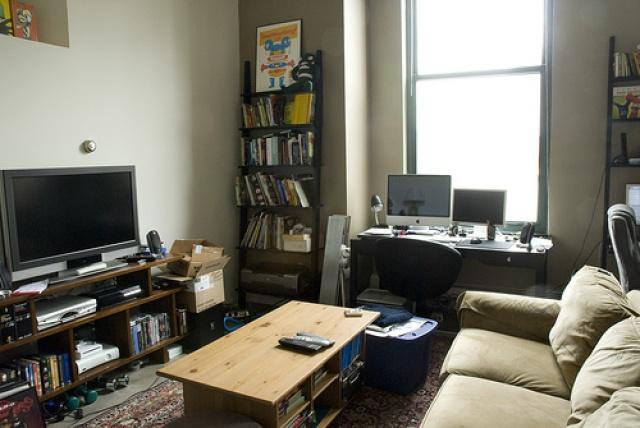AIO PC-Monitor-TV: (0, 163, 140, 274), (385, 173, 452, 230), (451, 188, 508, 226)
Meja: (154, 299, 381, 425)
